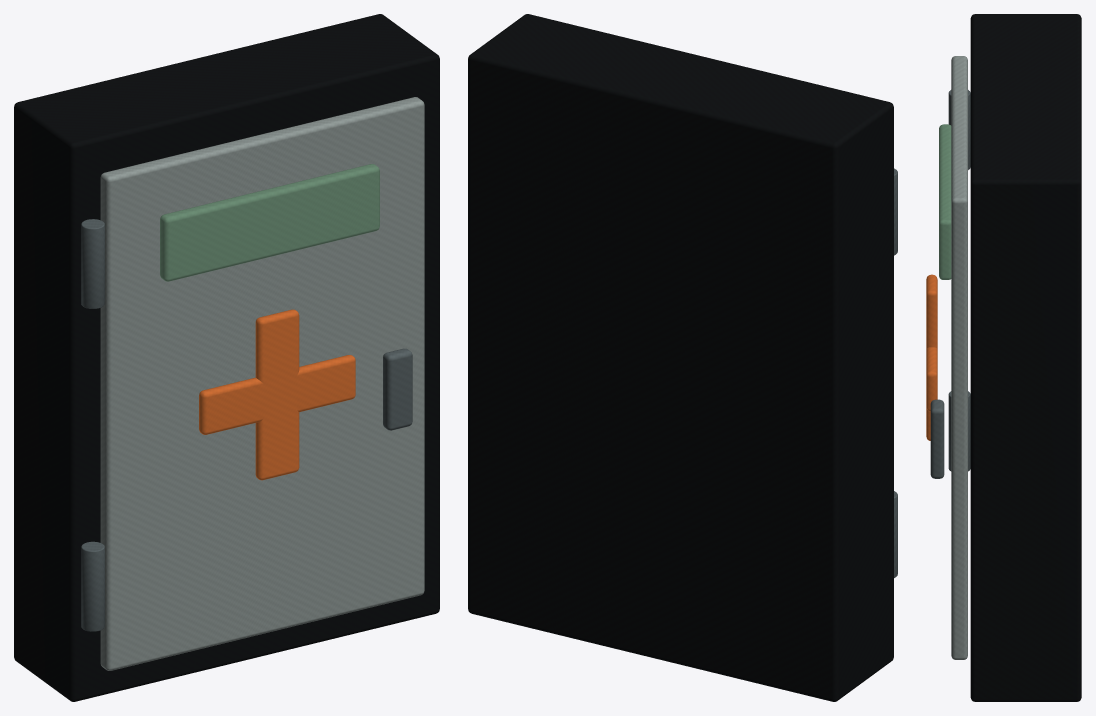
Rendered from WallFirstAidDispenser.glb.
3 views of the same model, side by side, from view 1: azimuth 30°, elevation 25°; view 2: azimuth 150°, elevation 25°; view 3: azimuth 270°, elevation 25° (orthographic). The views are drawn at different scales.
Parts seen in each view (by area): view 1: WallFirstAidDispenser_Mesh; view 2: WallFirstAidDispenser_Mesh; view 3: WallFirstAidDispenser_Mesh.
Part boxes in pixels (bbox=[...]): WallFirstAidDispenser_Mesh: bbox=[14, 14, 439, 701]; WallFirstAidDispenser_Mesh: bbox=[468, 14, 897, 701]; WallFirstAidDispenser_Mesh: bbox=[926, 14, 1081, 701].
Size of the model in its own units: 0.72 by 1.04 by 0.28.
Materials: 5 (5 with a texture image).
